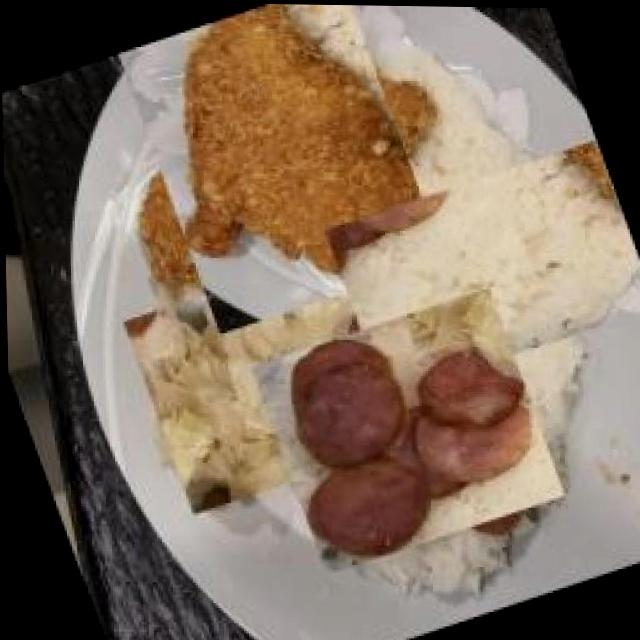chinese_cabbage: (120, 264, 354, 517)
chinese_sausage: (253, 278, 558, 581)
fried_chicken: (95, 1, 459, 323)
rice: (337, 116, 640, 417)
